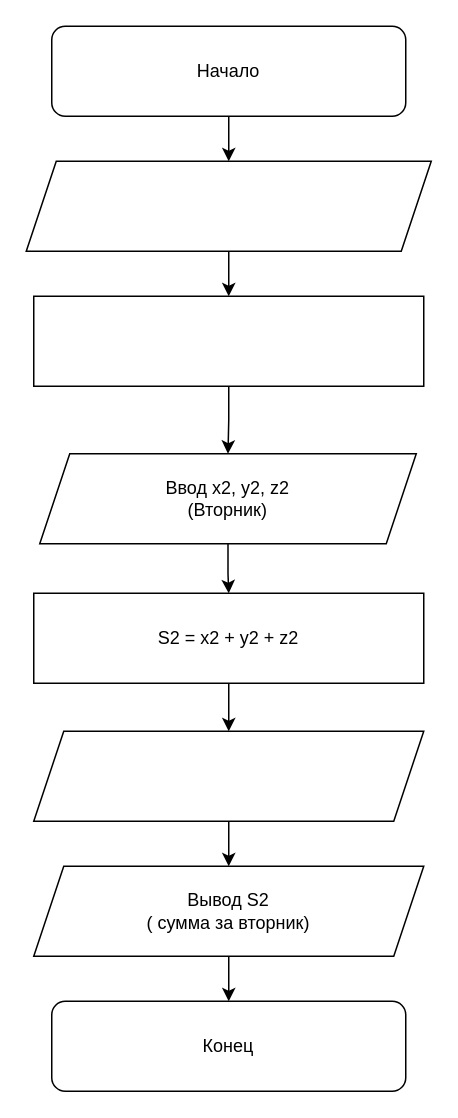
The diagram is 458 pixels wide and 1118 high, and some of its shapes have lost their labels. The centre of each missing label's shape, as x and y in pixels:
S1 = x1 + y2 + z1: point (228, 340)
Ввод x1, y1, z1 (понедельник): point (228, 205)
Вывод S1 ( сумма за понедельник): point (228, 775)
